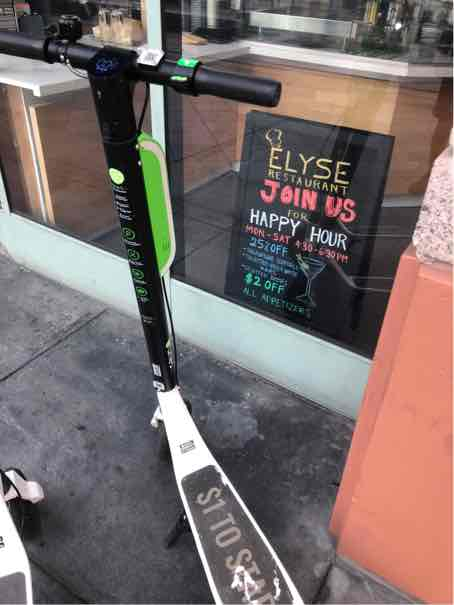scooter: (4, 45, 355, 605)
